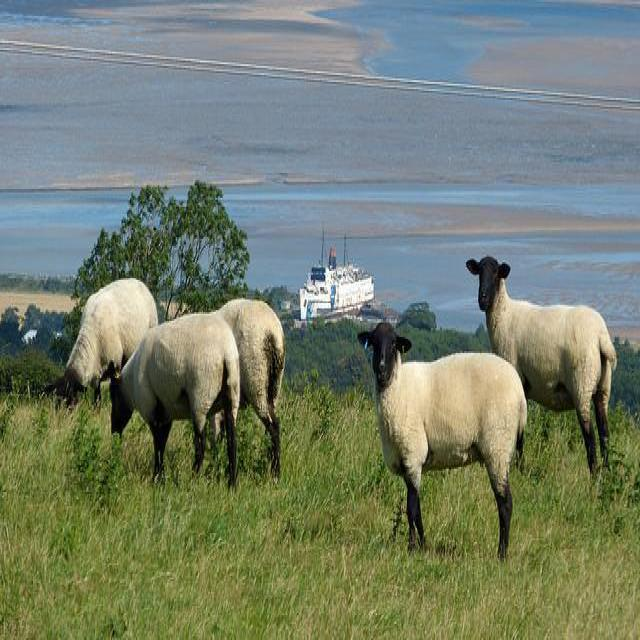Sheep: (358, 324, 527, 570), (467, 257, 616, 481), (109, 314, 240, 488), (40, 278, 159, 412), (209, 298, 286, 483)
